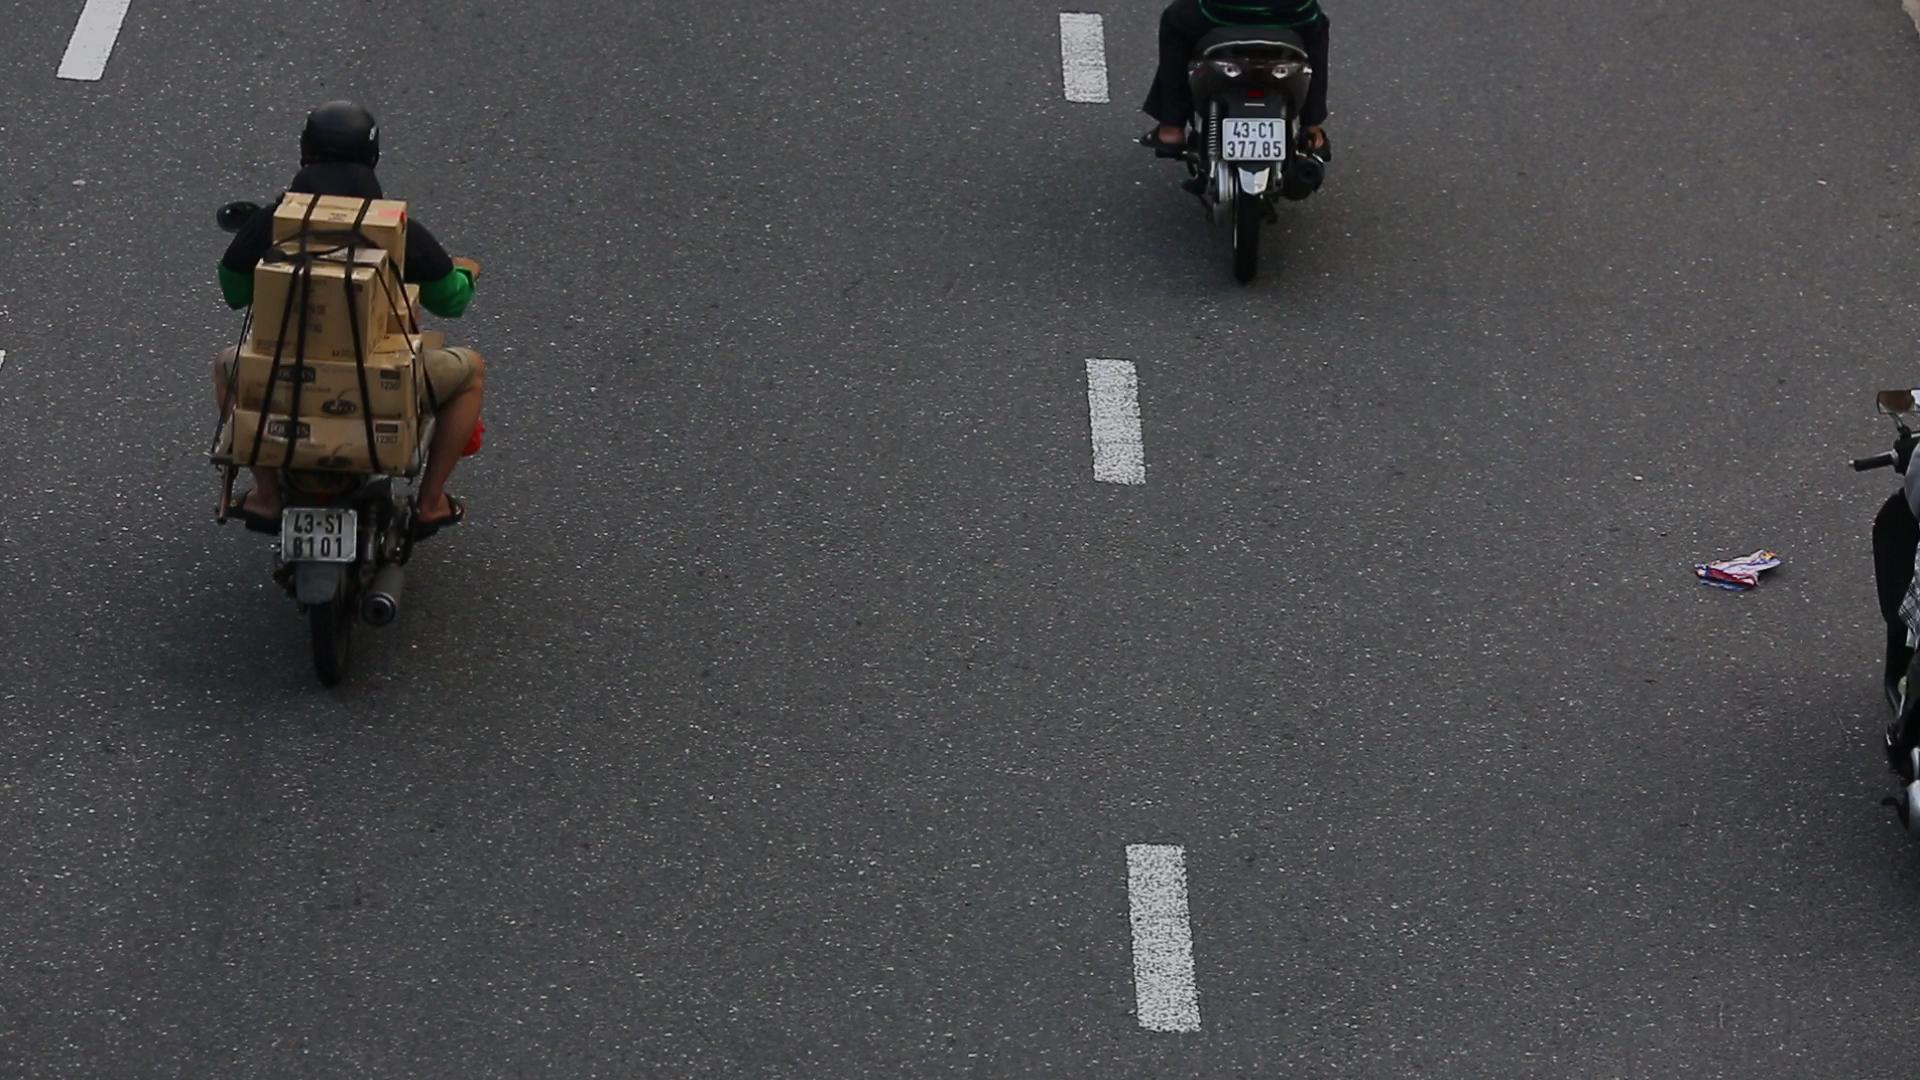motobike: (199, 94, 495, 690)
